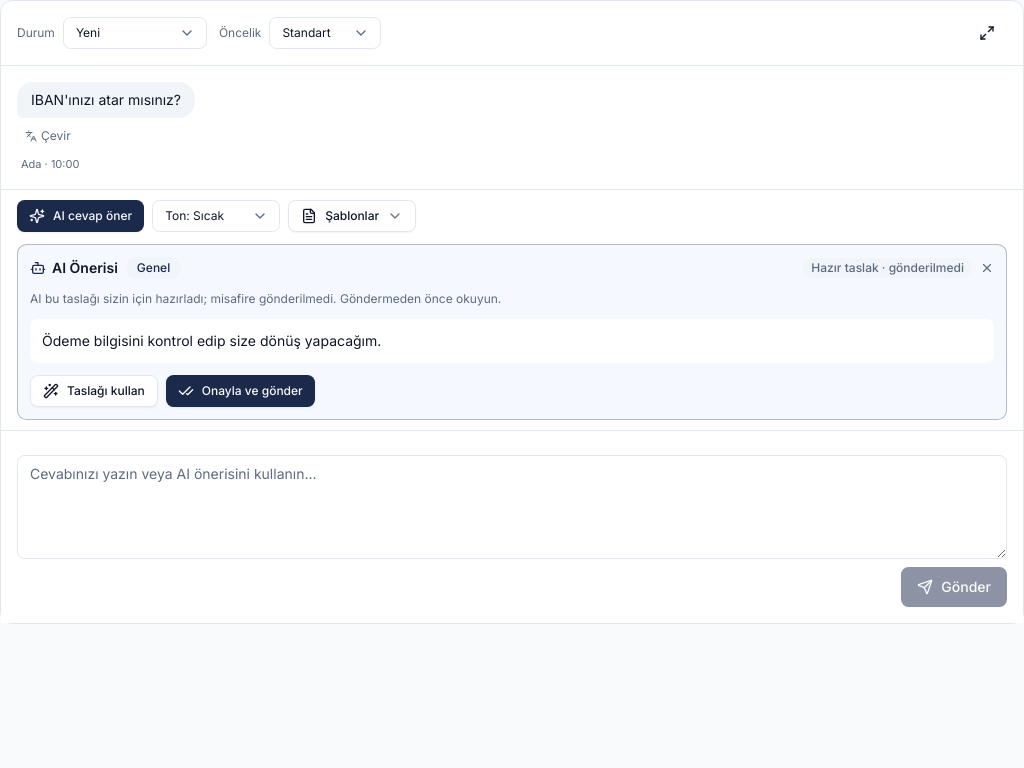
Test case: ConversationThread — hazır taslak › M5: hazır taslağın yerine 'AI cevap öner' sonucu geldiyse, sunucu taslağı sonradan vermese de bu sonuç SİLİNMEZ (yalnız hazır taslak kalkar)
The image size is (1024, 768).
Later steps or results of the test are not shown.
Click the button "AI cevap öner" at point(81, 216), box [17,200,144,232]
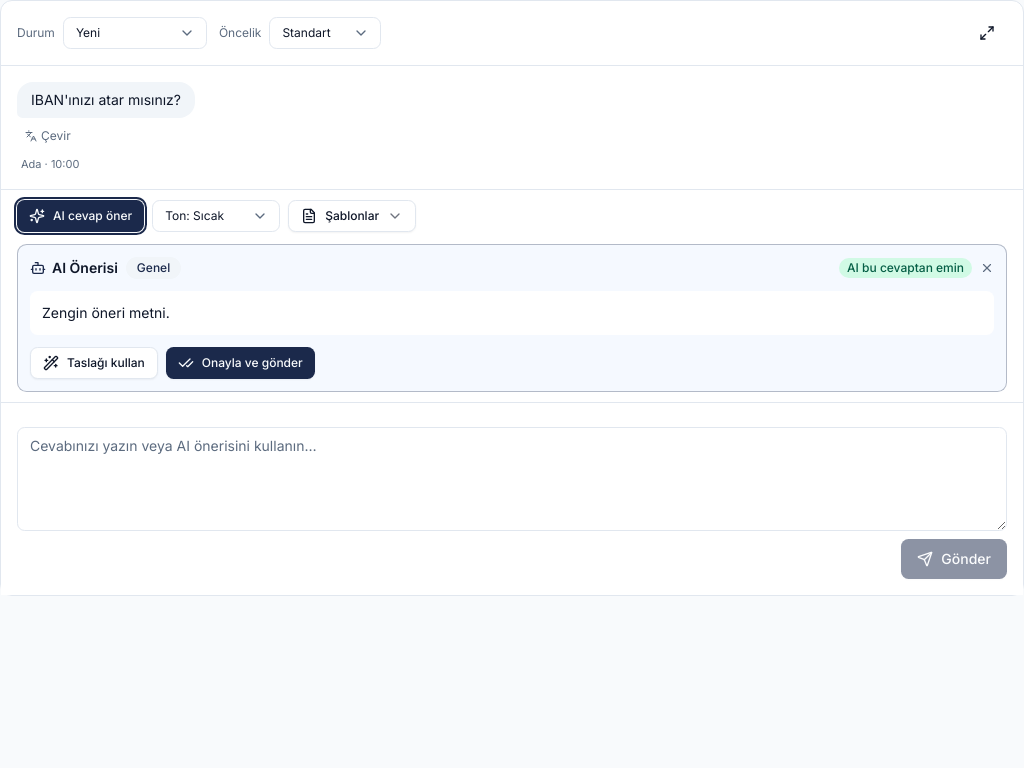
Check: the text "Zengin öneri metni." is shown, box [30,290,994,334]
